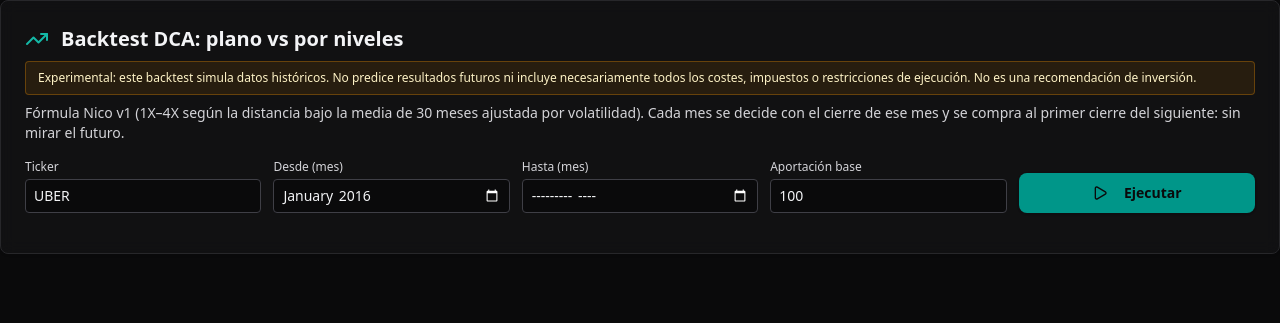
Test: DcaBacktestPanel aportación base › formato ambiguo: explica la gramática esperada y no ejecuta
Replace the text in the field labelled "Aportación base" with "1,234". click: (888, 196)
box: [770,179,1007,213]
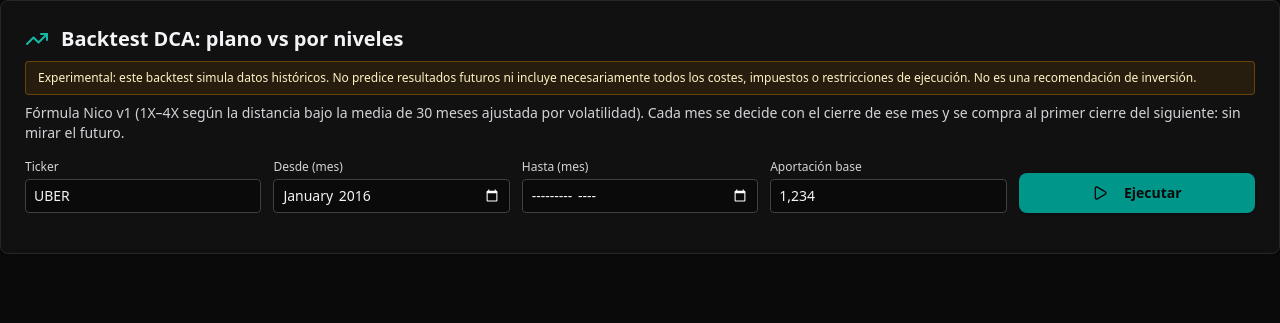
Submit the form "Ticker Desde (mes) Hasta (mes) Aportación base Ejecutar", box [25,159,1255,213]
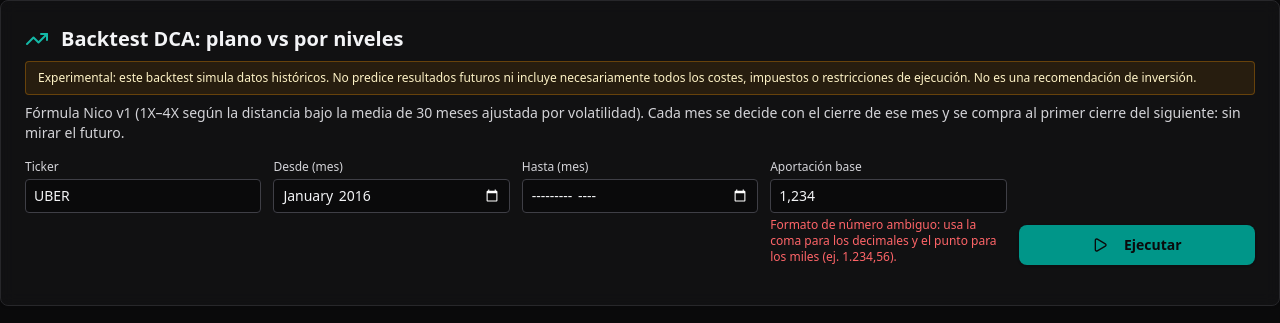
Result: the message shows "Formato de número ambiguo" at [770,216,997,265]
